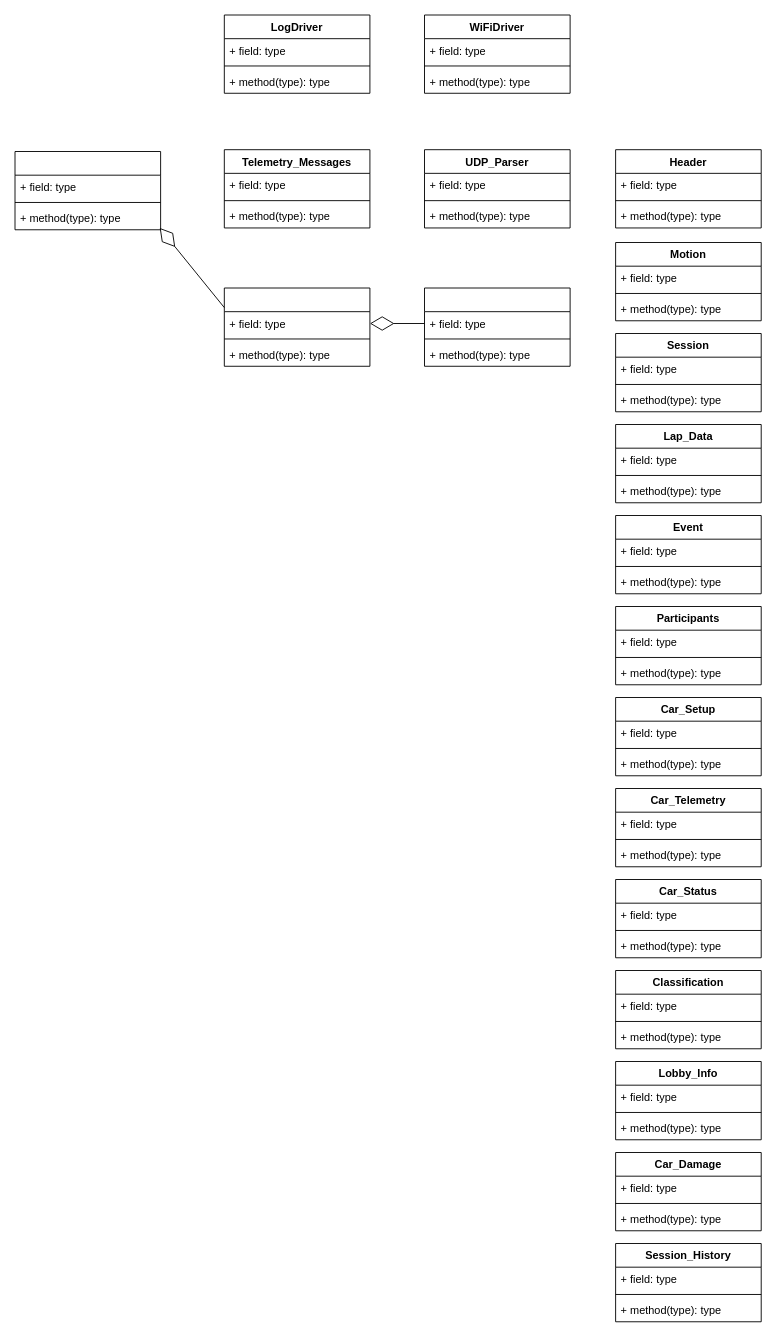
This 776x1337 diagram has some shape labels left out. Here are the shapes that lost their labels. From the top down, the box of each, then its label:
(14, 151, 161, 230): F1_Telemetry
(223, 287, 370, 366): ScreenHandler
(424, 287, 570, 366): LCDDriver
